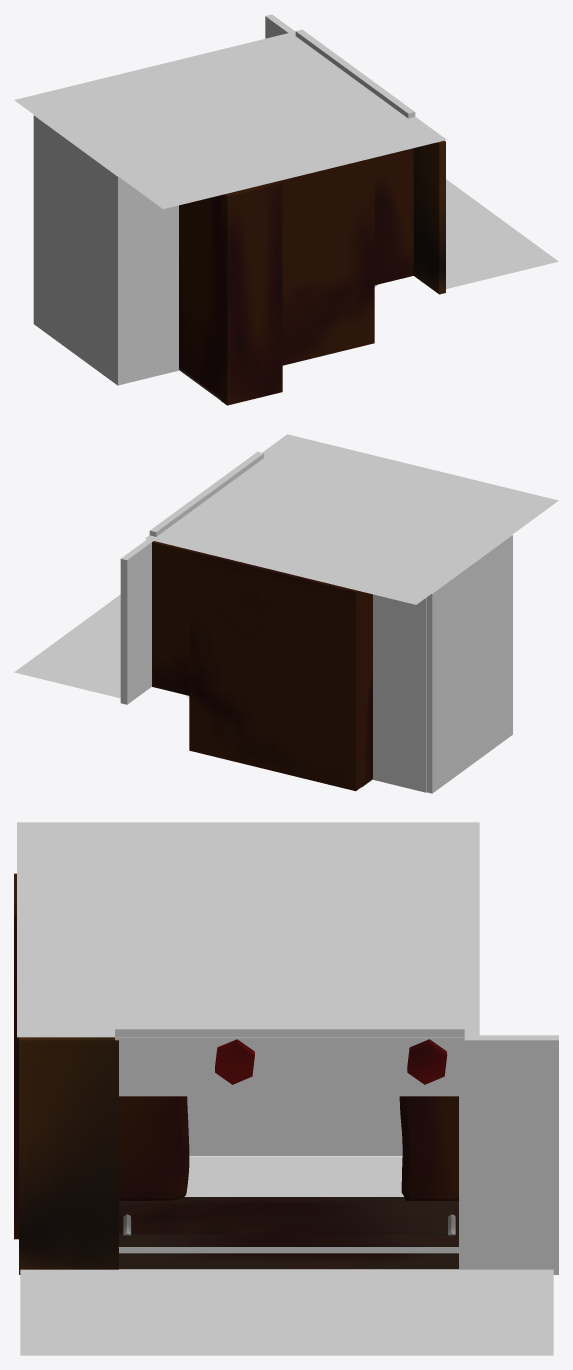
Rendered from Salle porte base.fbx.
3 views of the same model, one above another, from view 1: azimuth 30°, elevation 25°; view 2: azimuth 150°, elevation 25°; view 3: azimuth 270°, elevation 25° (orthographic). The views are drawn at different scales.
Visible parts, largest first — view 1: Plafond, Boîte 12, Plan 14, Plan 9, Boîte 2, Plan 4, Plan 1, Plan 16, Plan 17, Plan 19; view 2: Plafond, Plan 13, Boîte 12, Boîte 1, Plan 1, Plan 15, Plan 7, Plan 4, Plan 19; view 3: Plafond, Plan 1, Plan 7, Plan 17, Plan 19, Plan 4, Boîte 12, Plan 6, Plan 3, Sol petite salle, Plan 18, Plan 9 (+3 smaller).
Boxes of the visible parts, left/top/right/bottom form: Plafond: left=14, top=31, right=446, bottom=209; Boîte 12: left=33, top=115, right=124, bottom=385; Plan 14: left=280, top=157, right=374, bottom=365; Plan 9: left=220, top=181, right=282, bottom=405; Boîte 2: left=124, top=181, right=178, bottom=383; Plan 4: left=179, top=195, right=220, bottom=397; Plan 1: left=446, top=179, right=558, bottom=288; Plan 16: left=374, top=148, right=413, bottom=285; Plan 17: left=413, top=140, right=445, bottom=294; Plan 19: left=295, top=29, right=415, bottom=118; Plafond: left=145, top=434, right=558, bottom=604; Plan 13: left=189, top=550, right=361, bottom=791; Boîte 12: left=426, top=535, right=512, bottom=793; Boîte 1: left=373, top=594, right=426, bottom=792; Plan 1: left=14, top=594, right=120, bottom=698; Plan 15: left=152, top=541, right=190, bottom=695; Plan 7: left=120, top=539, right=153, bottom=704; Plan 4: left=360, top=591, right=372, bottom=784; Plan 19: left=149, top=451, right=263, bottom=536; Plafond: left=17, top=822, right=479, bottom=1037; Plan 1: left=20, top=1269, right=553, bottom=1355; Plan 7: left=459, top=1035, right=558, bottom=1274; Plan 17: left=19, top=1037, right=118, bottom=1274; Plan 19: left=115, top=1024, right=464, bottom=1096; Plan 4: left=119, top=1096, right=458, bottom=1200; Boîte 12: left=187, top=1096, right=402, bottom=1155; Plan 6: left=119, top=1197, right=458, bottom=1231; Plan 3: left=119, top=1234, right=458, bottom=1269; Sol petite salle: left=184, top=1156, right=403, bottom=1196; Plan 18: left=118, top=1247, right=460, bottom=1253; Plan 9: left=14, top=873, right=18, bottom=1239.
Bounding box in the file's own units: 10.77 × 5.66 × 8.25.
